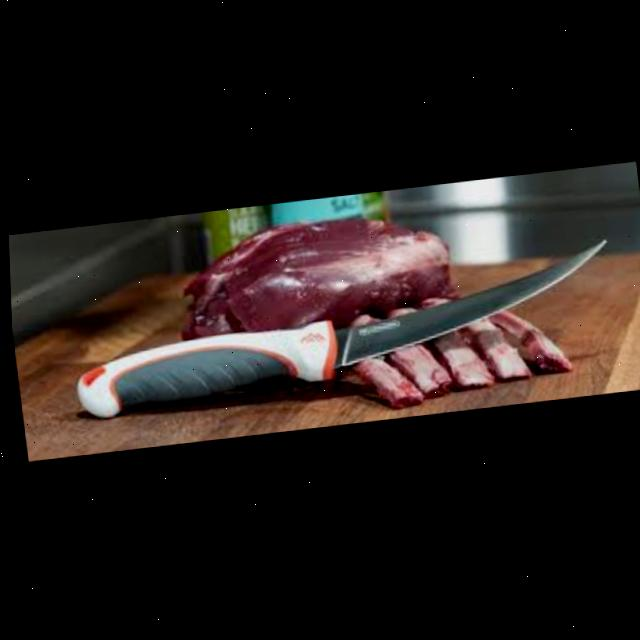Knife: (62, 239, 618, 419)
